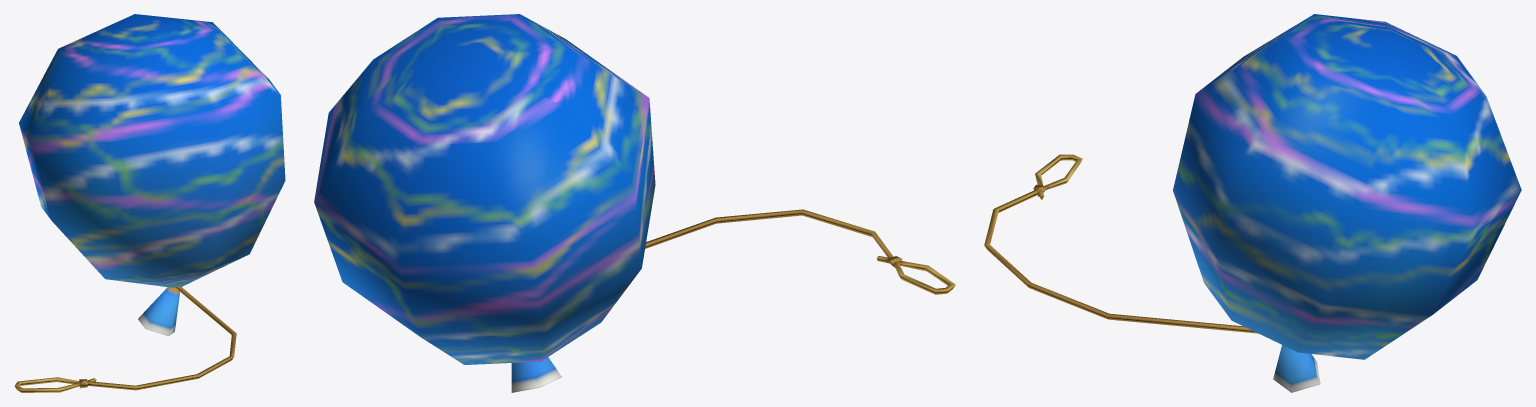
The model's file is jsf_WaterBalloon_12_c.fbx.
3 views of the same model, side by side, from view 1: azimuth 30°, elevation 25°; view 2: azimuth 150°, elevation 25°; view 3: azimuth 270°, elevation 25° (orthographic). The views are drawn at different scales.
Parts seen in each view (by area): view 1: jsf_WaterBalloon_12_c; view 2: jsf_WaterBalloon_12_c; view 3: jsf_WaterBalloon_12_c.
Part boxes in pixels (x1=…): jsf_WaterBalloon_12_c: x1=14, y1=14, x2=285, y2=392; jsf_WaterBalloon_12_c: x1=314, y1=14, x2=955, y2=392; jsf_WaterBalloon_12_c: x1=984, y1=14, x2=1521, y2=392.
Size of the model in its own units: 16.89 by 12.55 by 17.11.
